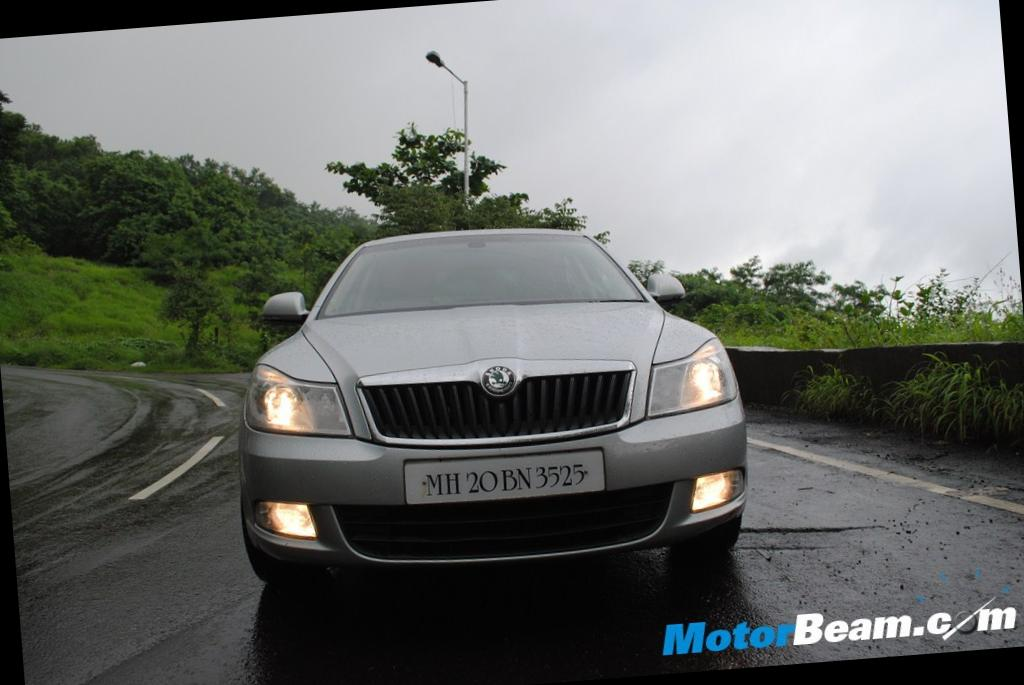plate: (397, 442, 612, 518)
